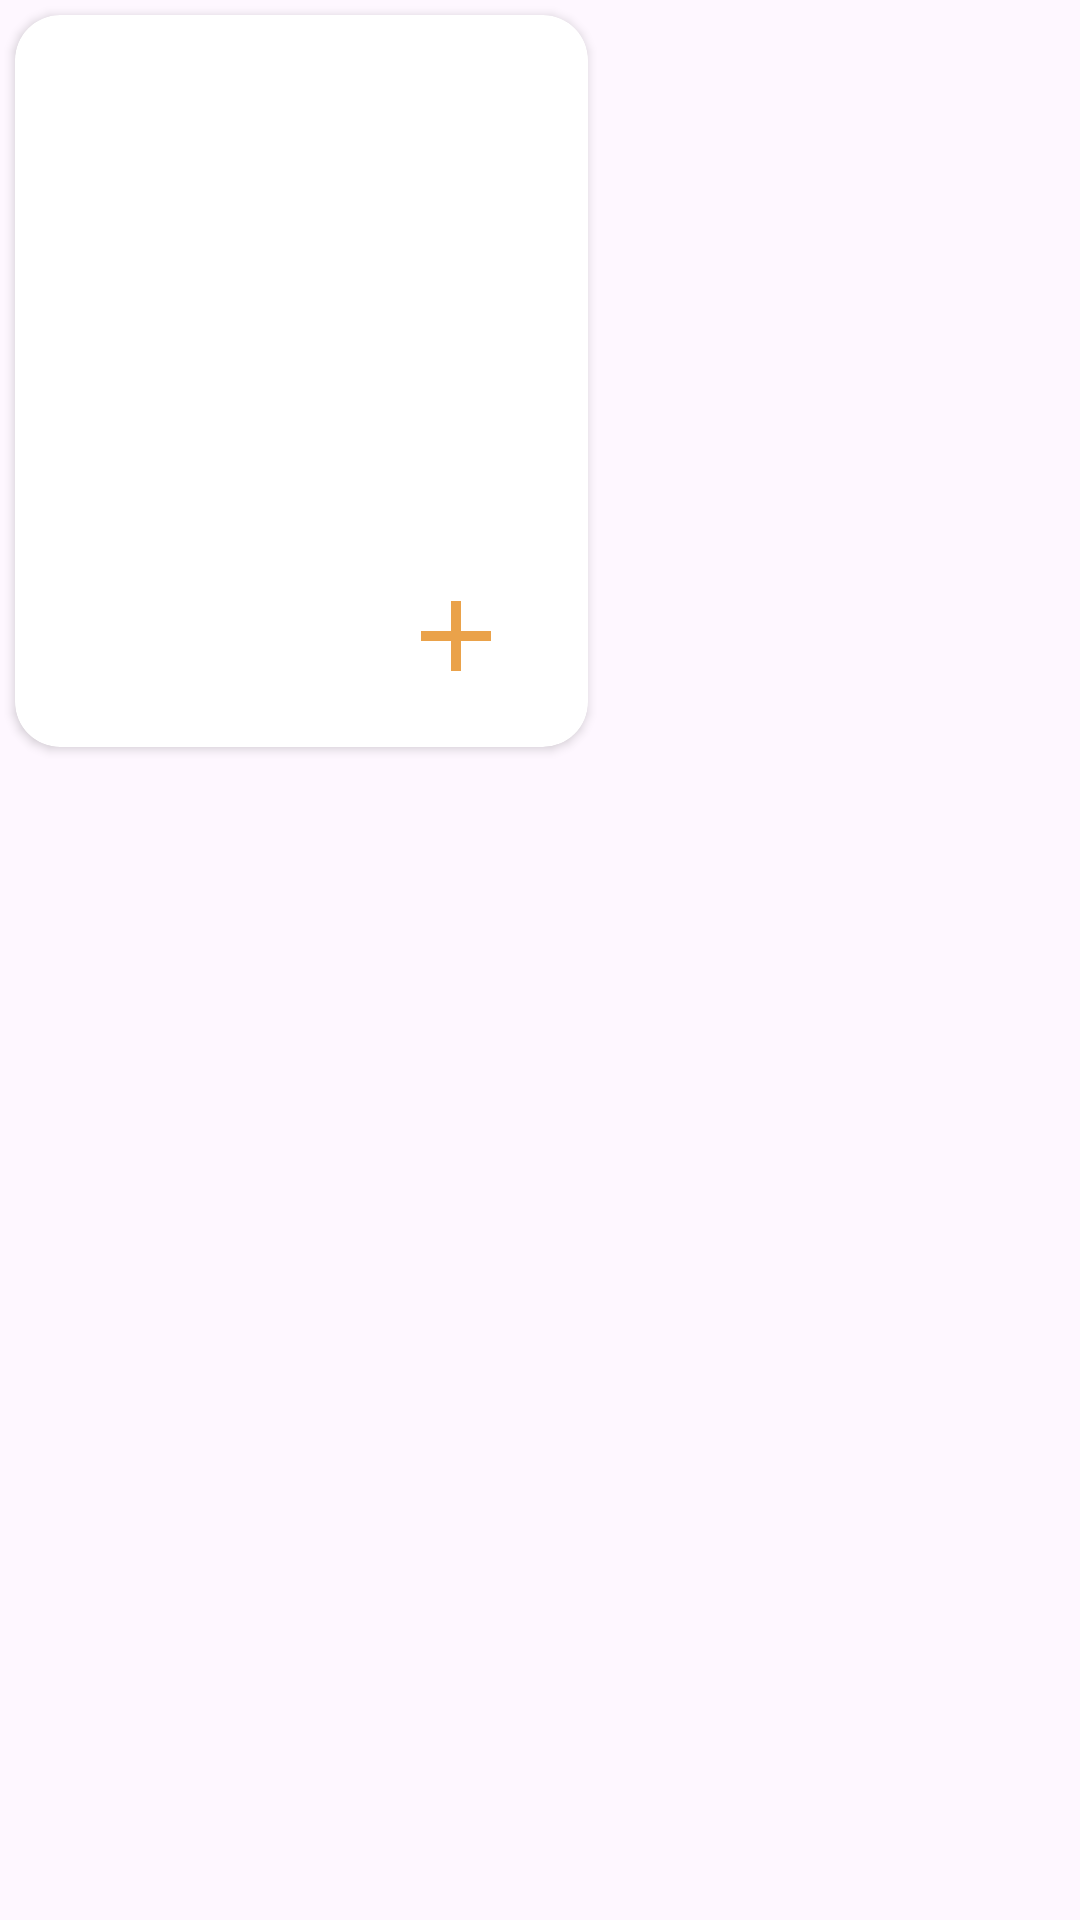

Icons on this 1080*1920 Android screen, each with the point to tap as [x,y]:
add: [456,636]
